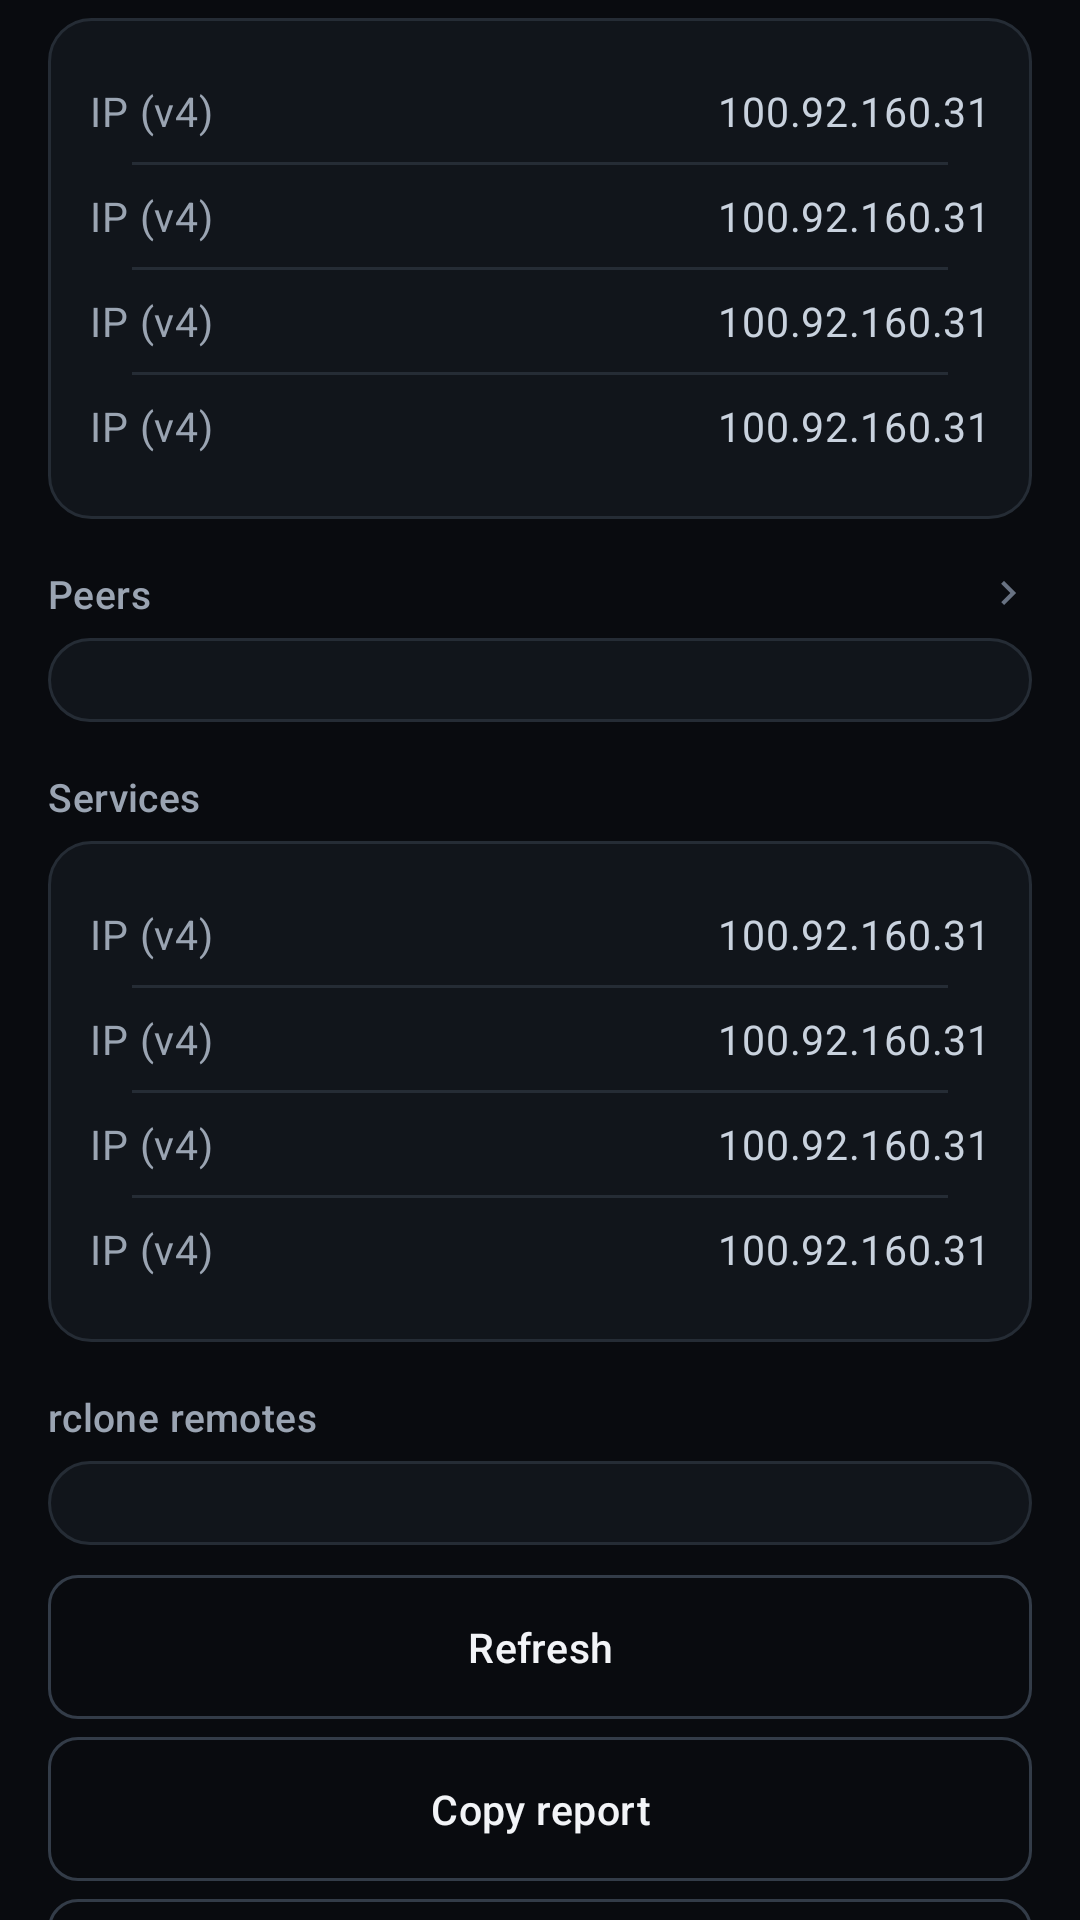

Where icons sit on this 1080x1920 app screen, as [x1,y1,x2,y2]:
eq chevron: [1001,581,1016,605]
